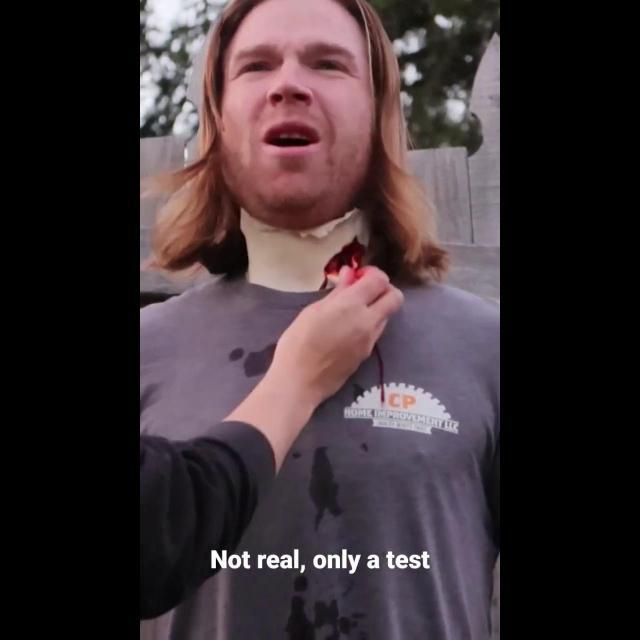blood: (320, 236, 366, 289)
